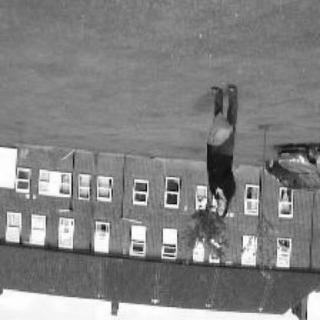other: (206, 109, 240, 153)
